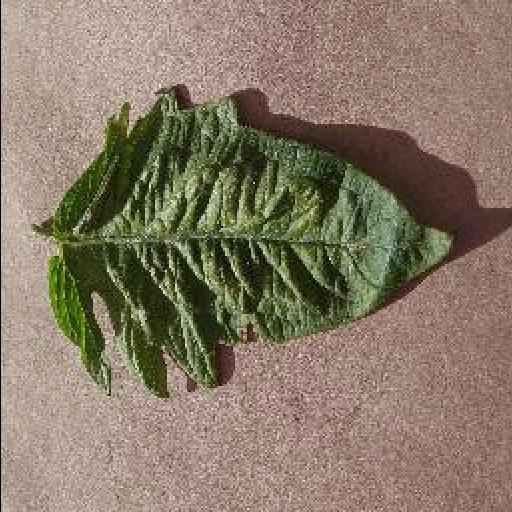disease_tomato: (45, 94, 459, 400)
